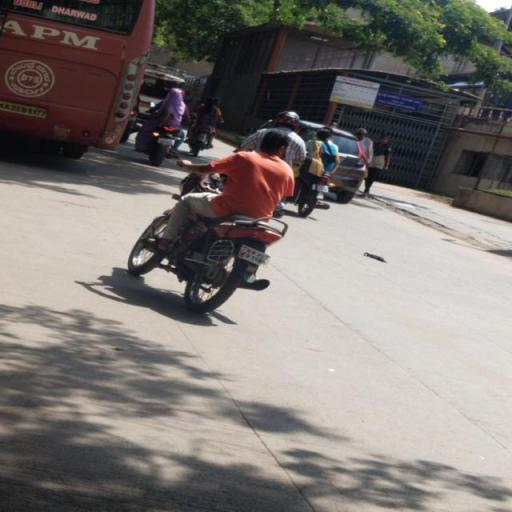bike: (124, 128, 305, 317)
numberplate: (234, 242, 278, 276)
withouthelmet: (260, 128, 298, 162)
